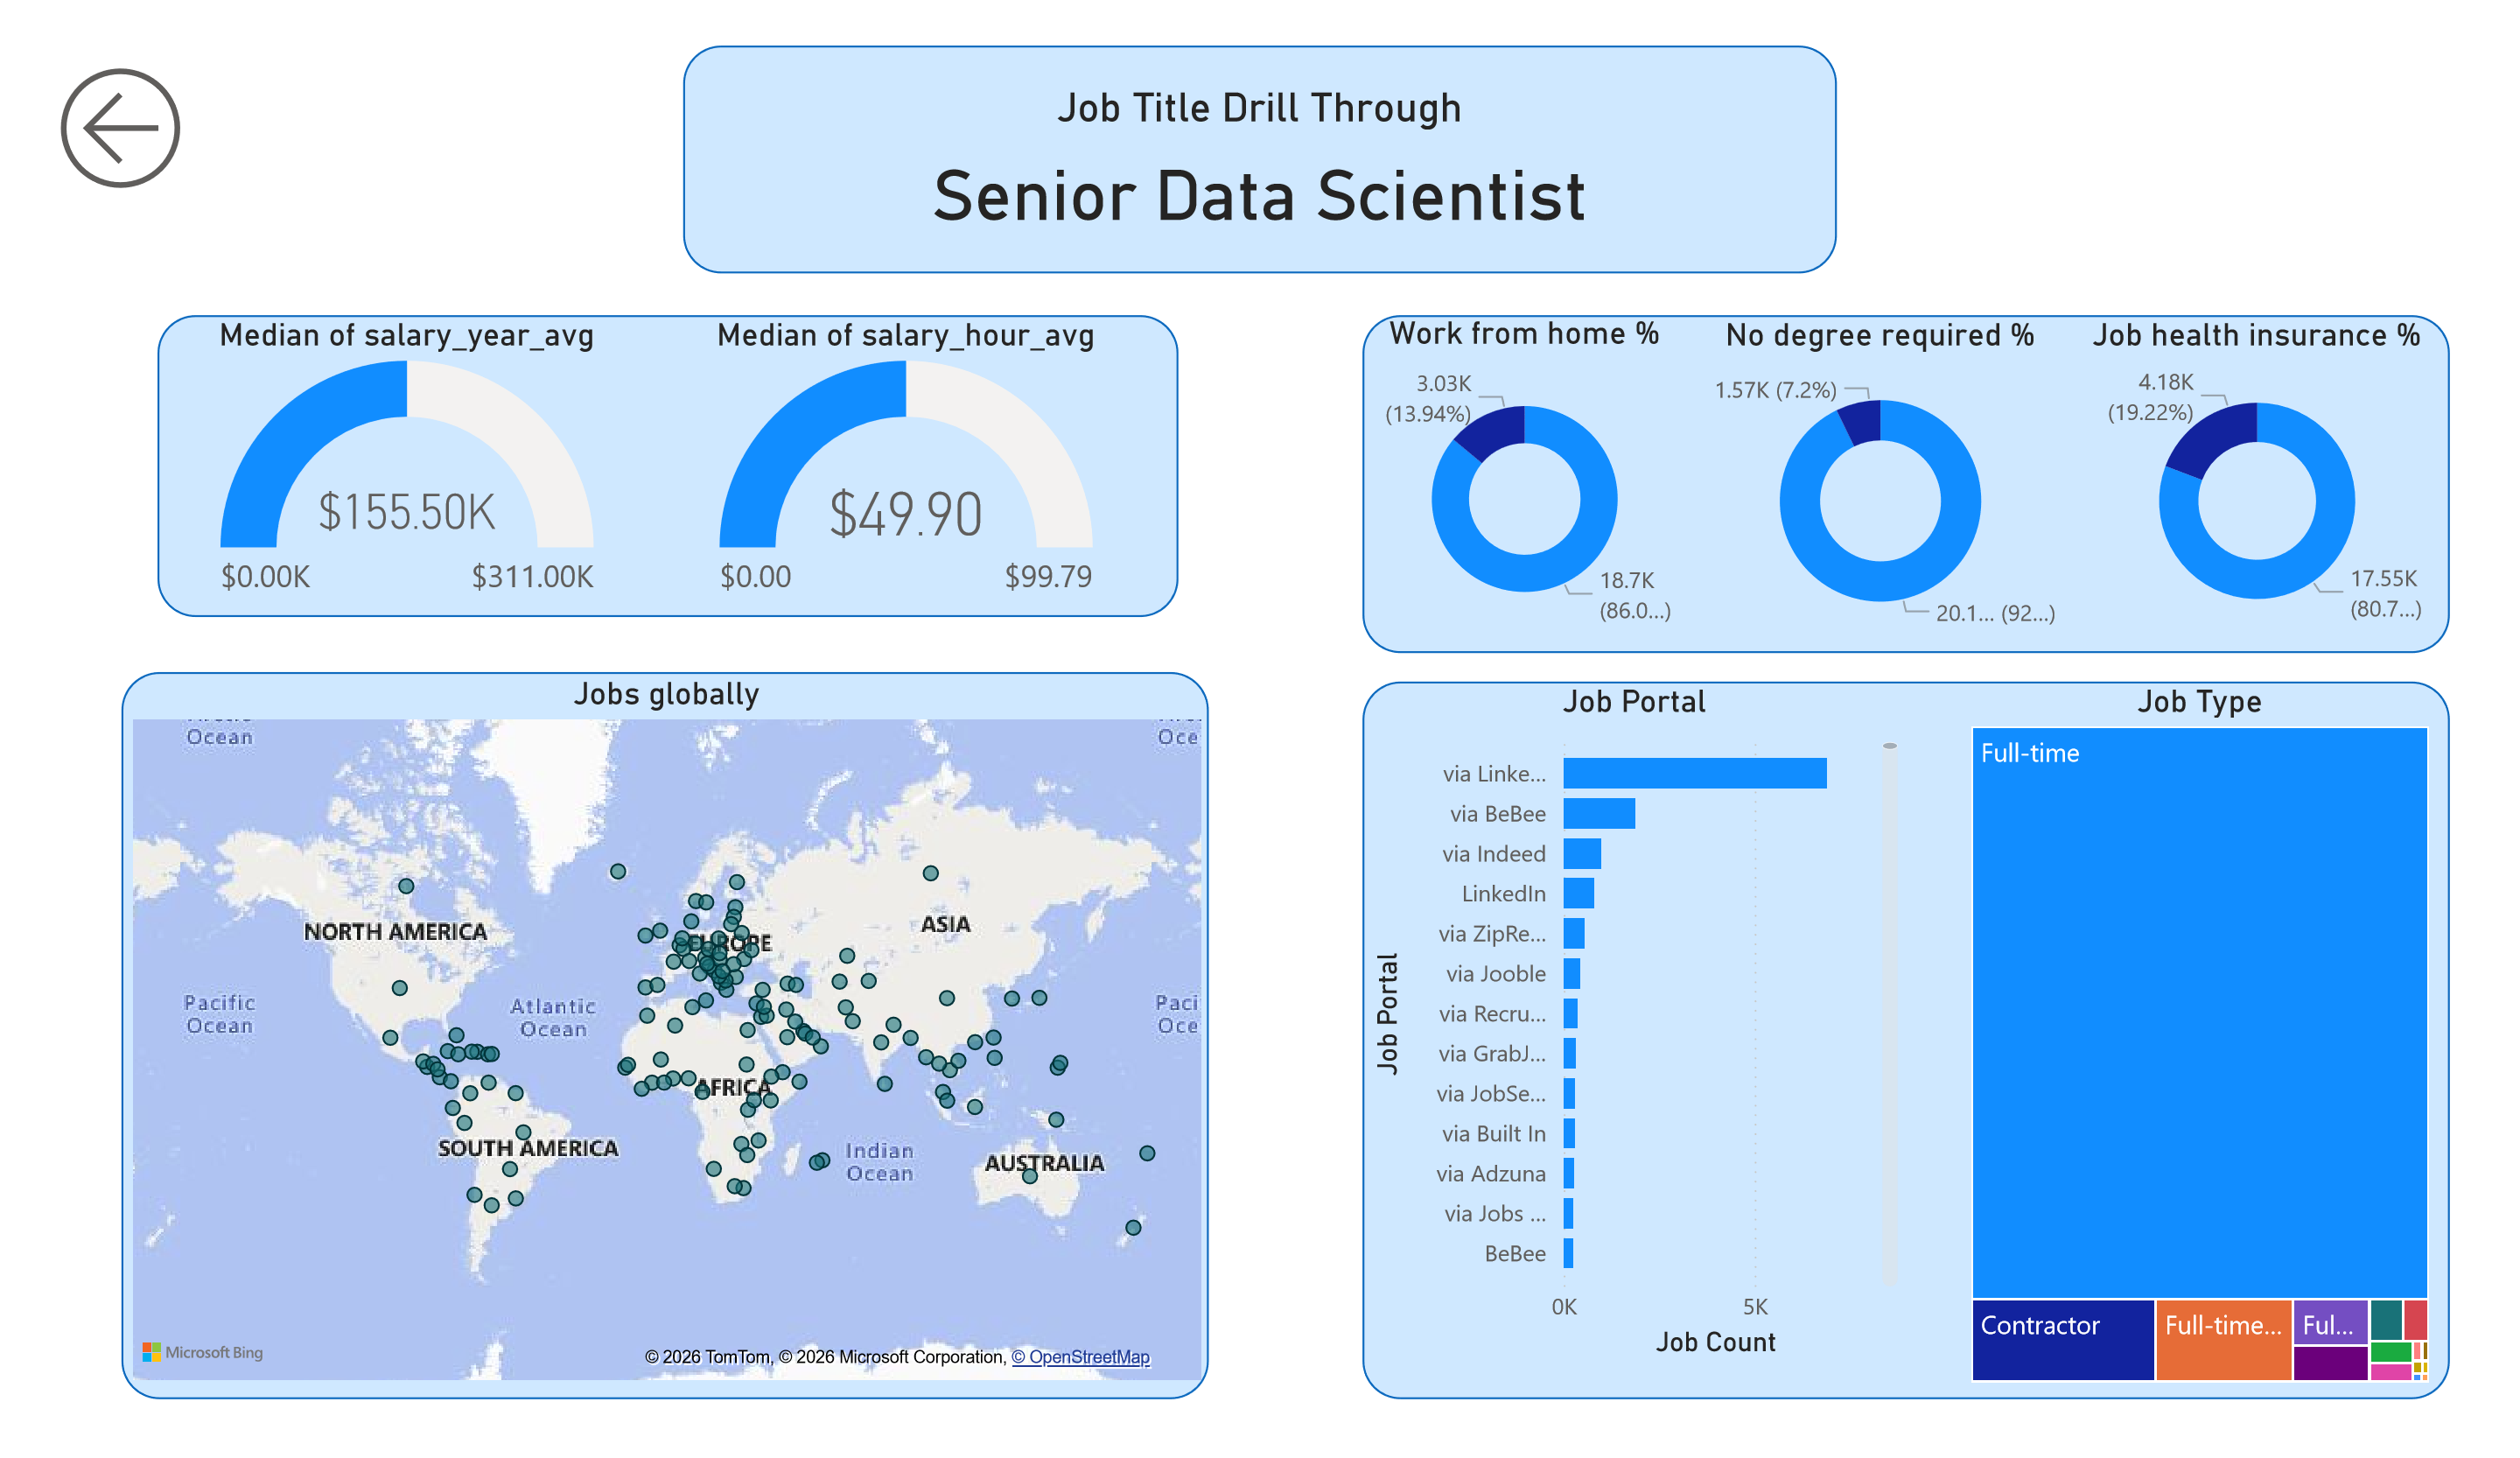

Layout of this report page (visuals, bound fields, positions):
{"tool":"powerbi","page":{"name":"Drill","canvas":[1280,720],"ordinal":1},"visuals":[{"type":"shape","box":[336.7,0,608.2,119.8],"z":0,"group":"g2"},{"type":"group","id":"g1","title":"Group 1","box":[40.5,141.7,1227.1,571.5],"z":1000,"group":"g2"},{"type":"group","id":"g2","title":"Group 2","box":[40.5,0,1227.1,713.2],"z":1500},{"type":"card","title":"Job Title Drill Through","fields":{"Values":["Min(job_postings_flat.job_title_short)"]},"box":[321.9,0,636.1,120.2],"z":2000},{"type":"actionButton","box":[0,0,79.4,85.6],"z":3000},{"type":"gauge","fields":{"Y":["Median(job_postings_flat.salary_year_avg)"]},"box":[59.2,141.7,263.2,158.8],"z":4000},{"type":"gauge","fields":{"Y":["Median(job_postings_flat.salary_hour_avg)"]},"box":[322.3,141.7,263.2,158.8],"z":5000},{"type":"donutChart","title":"Work from home %","fields":{"Category":["job_postings_flat.job_work_from_home"],"Y":["CountNonNull(job_postings_flat.job_work_from_home)"]},"box":[694.6,141,169.9,177.4],"z":6000},{"type":"donutChart","title":"No degree required %","fields":{"Category":["job_postings_flat.job_no_degree_mention"],"Y":["CountNonNull(job_postings_flat.job_no_degree_mention)"]},"box":[864.2,141.7,205.5,177.5],"z":7000},{"type":"donutChart","title":"Job health insurance %","fields":{"Category":["job_postings_flat.job_health_insurance"],"Y":["CountNonNull(job_postings_flat.job_health_insurance)"]},"box":[1069.8,141.7,191.5,177.5],"z":8000},{"type":"map","title":"Jobs globally","fields":{"Category":["job_postings_flat.job_country"],"Series":["job_postings_flat.job_title_short"]},"box":[40.9,330.6,573.3,377.6],"z":9000},{"type":"barChart","title":"Job Portal","fields":{"Y":["CountNonNull(job_postings_flat.job_title_short)"],"Category":["job_postings_flat.job_via"]},"box":[694.3,334.9,287,360.7],"z":10000},{"type":"treemap","title":"Job Type","fields":{"Group":["job_postings_flat.job_schedule_type"],"Values":["CountNonNull(job_postings_flat.job_schedule_type)"]},"box":[1009.8,334.9,250.8,373.7],"z":11000},{"type":"shape","box":[59.2,141.7,538.8,158.8],"z":12000,"group":"g1"},{"type":"shape","box":[40.5,330.1,573,383.1],"z":12500,"group":"g1"},{"type":"shape","box":[694.5,334.8,573,378.4],"z":12750,"group":"g1"},{"type":"shape","box":[694.5,141.7,573,177.5],"z":13000,"group":"g1"}]}

Visuals, with their boxes in screenshot pixels (x1, y1, x2, y2), scaled from the page's 1280x720 canvas onto the 2520x1458 screenshot:
shape: locate(663, 0, 1860, 242)
"Group 1" group: locate(80, 287, 2495, 1444)
"Group 2" group: locate(80, 0, 2495, 1444)
"Job Title Drill Through" card: locate(633, 0, 1886, 243)
actionButton: locate(0, 0, 157, 173)
gauge - Median(job_postings_flat.salary_year_avg): locate(116, 287, 634, 608)
gauge - Median(job_postings_flat.salary_hour_avg): locate(634, 287, 1152, 608)
"Work from home %" donutChart: locate(1368, 285, 1702, 645)
"No degree required %" donutChart: locate(1701, 287, 2106, 647)
"Job health insurance %" donutChart: locate(2106, 287, 2483, 647)
"Jobs globally" map: locate(80, 669, 1209, 1434)
"Job Portal" barChart: locate(1367, 678, 1932, 1409)
"Job Type" treemap: locate(1988, 678, 2481, 1435)
shape: locate(116, 287, 1178, 608)
shape: locate(80, 669, 1207, 1444)
shape: locate(1368, 678, 2495, 1444)
shape: locate(1368, 287, 2495, 647)
